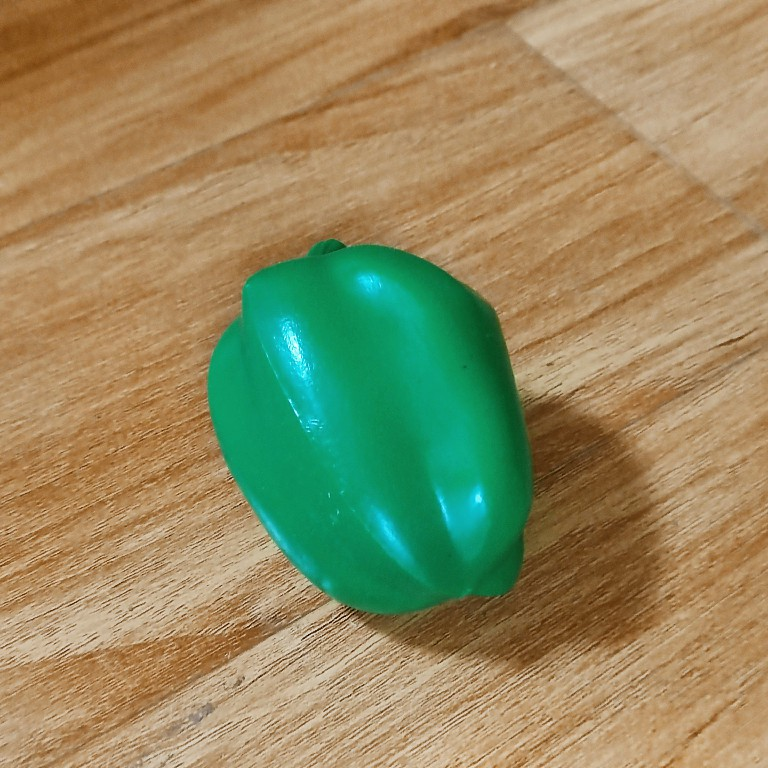fruit_pepper: (201, 235, 540, 619)
